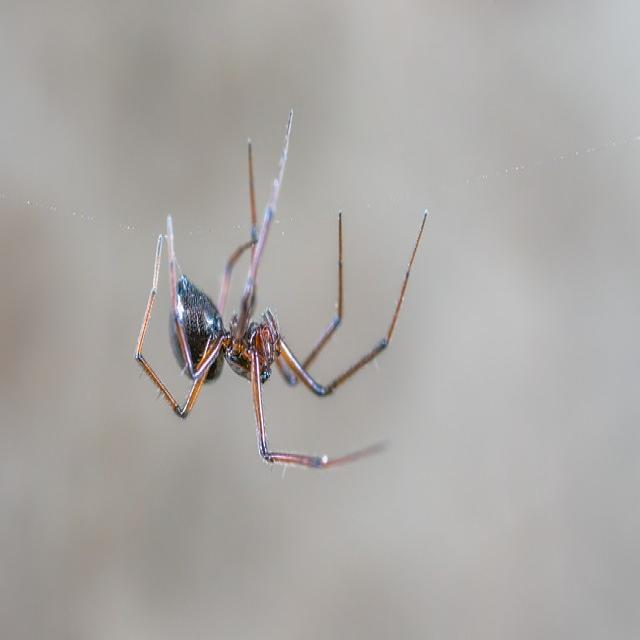spyder: (136, 110, 425, 468)
